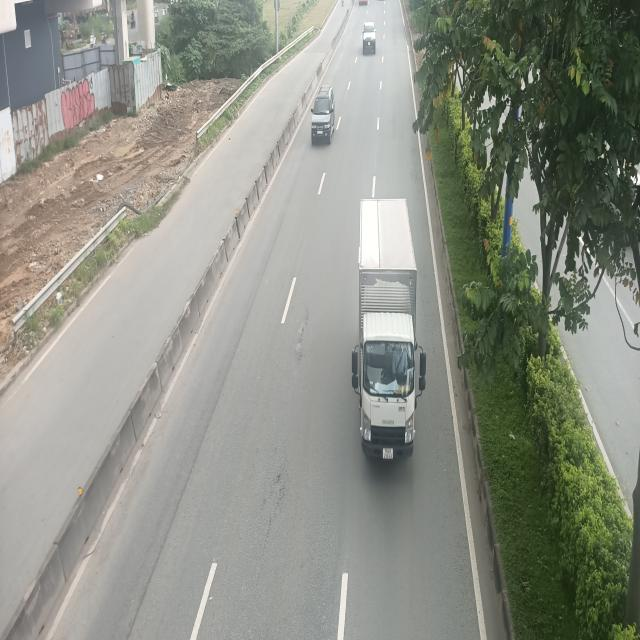car: (310, 86, 336, 145), (362, 19, 376, 54)
truck: (353, 199, 430, 465)
